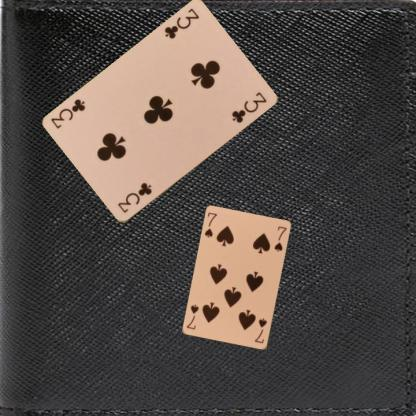3c: (162, 6, 200, 41), (115, 180, 153, 214)
7s: (252, 315, 268, 345), (203, 210, 219, 239)
